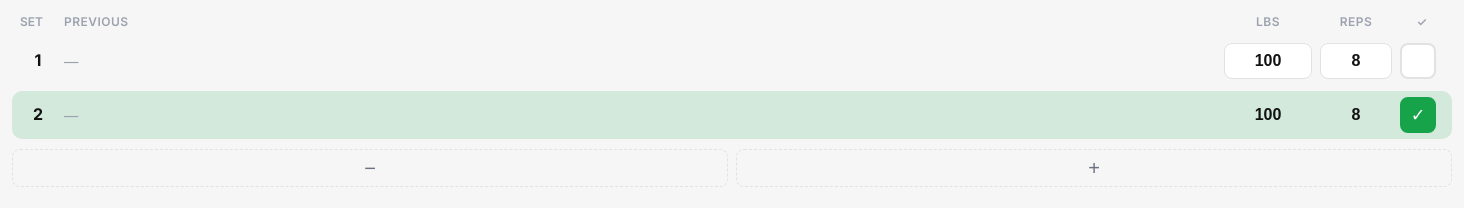
Scenario: SetTable › − removes the last set, asking first only if it was logged, and keeps one
Click the button named "Remove last Bench set" at {"x": 370, "y": 168}, box [12,149,728,187]
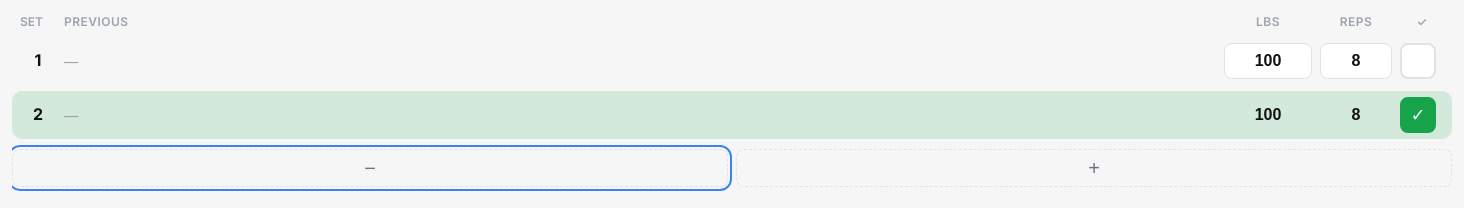
Click the button named "Remove last Bench set" at {"x": 370, "y": 168}, box [12,149,728,187]
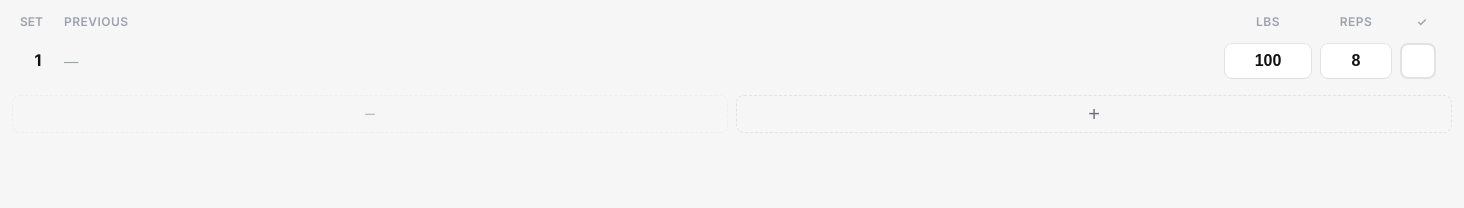
Expected: the button named "Remove last Bench set" is disabled, [12,95,728,133]
